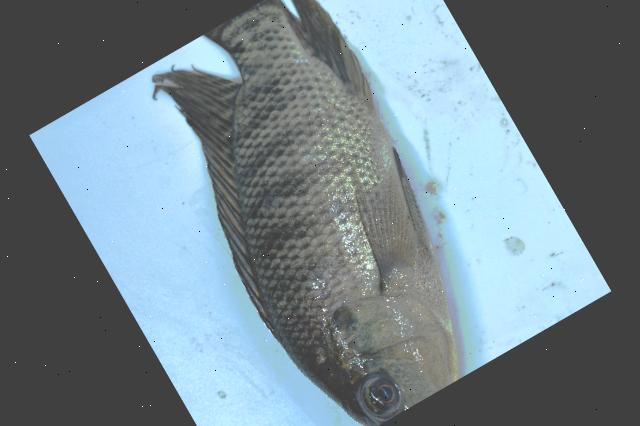Columnaris Disease: (152, 0, 456, 426)
